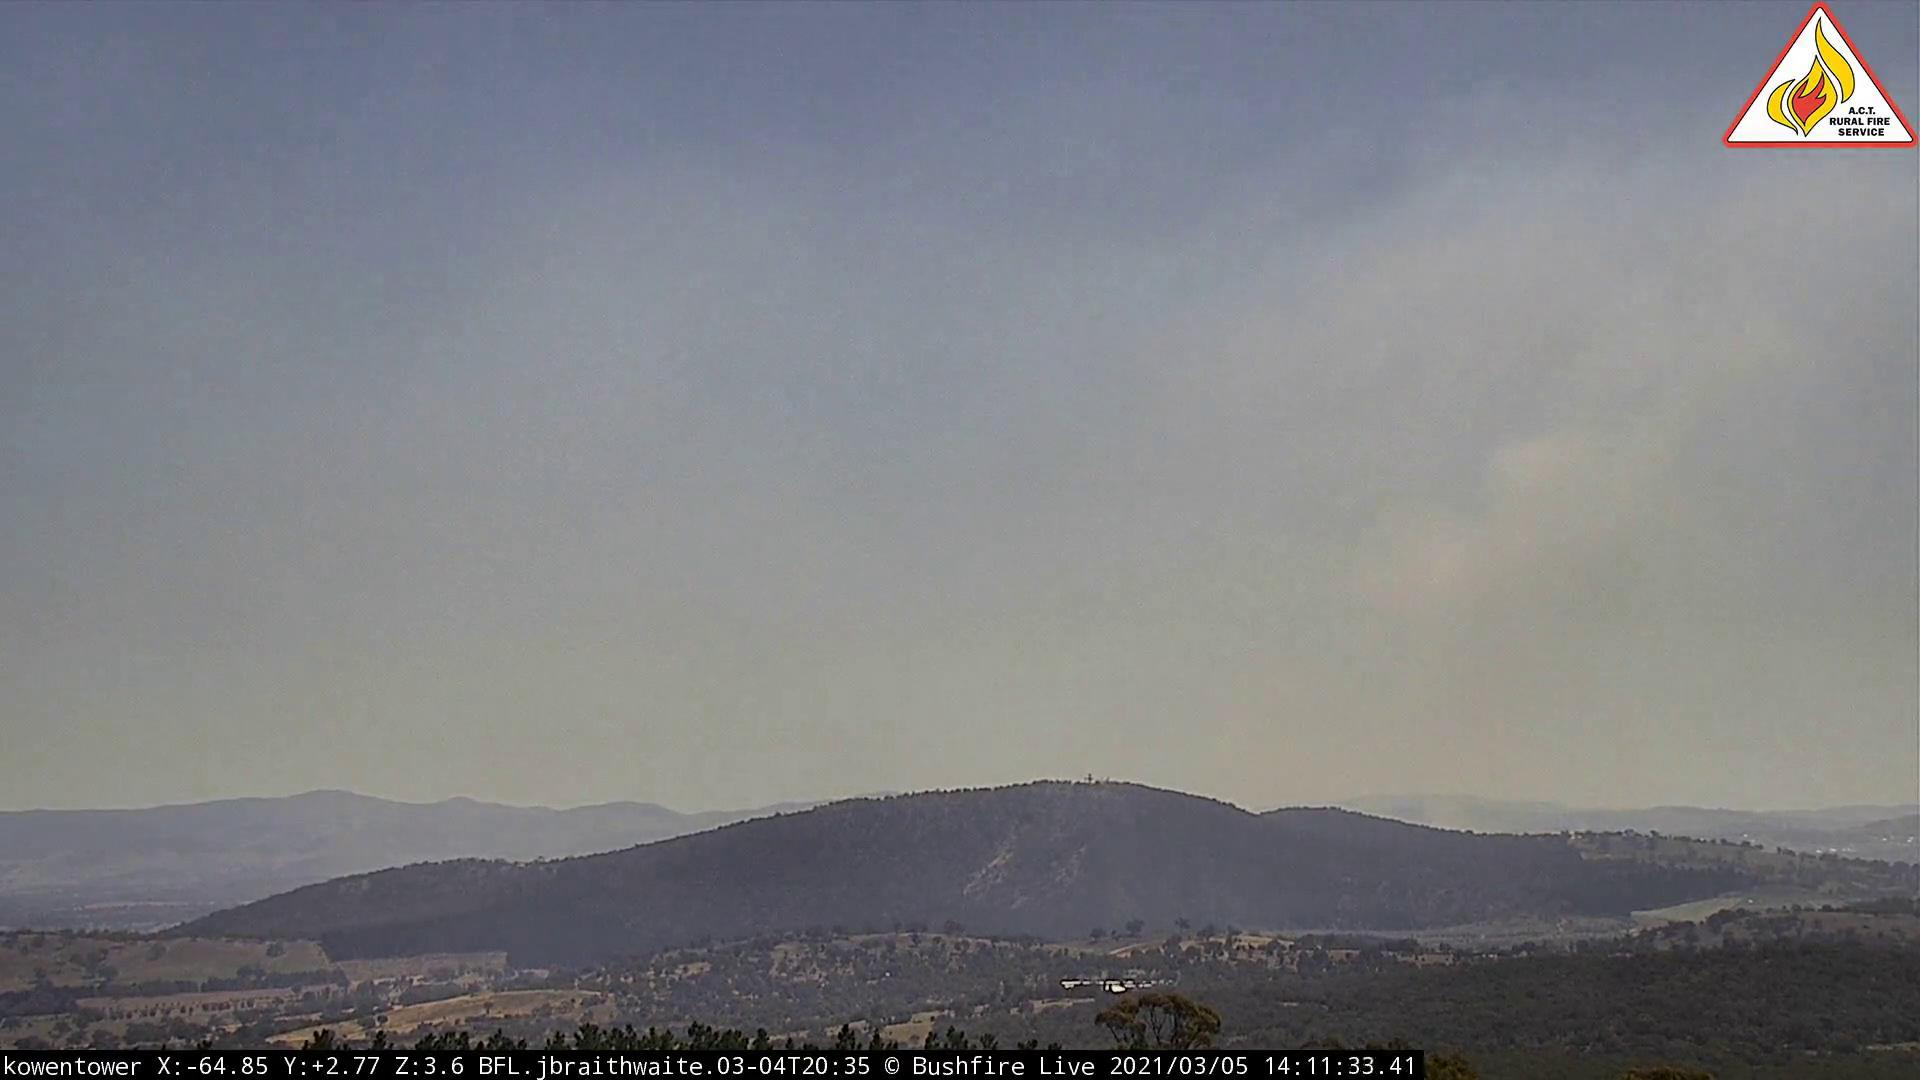Smoke: (1203, 345, 1756, 836)
